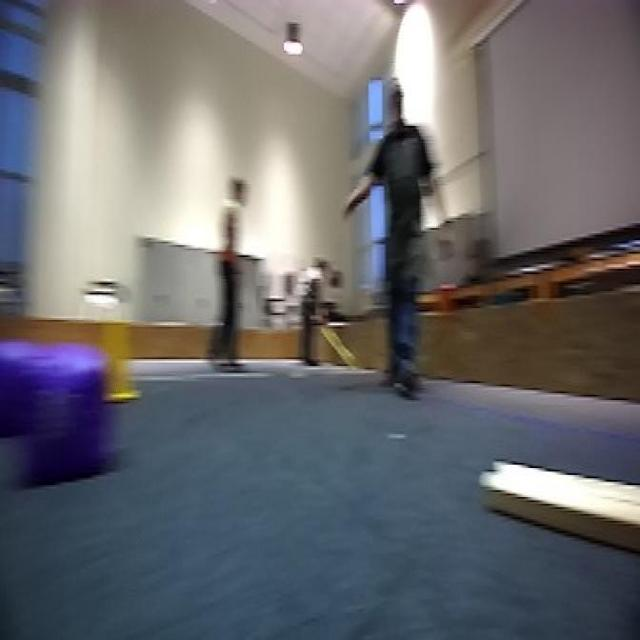frc_cone: (92, 310, 132, 410)
frc_cube: (28, 344, 108, 480), (0, 337, 42, 432)
